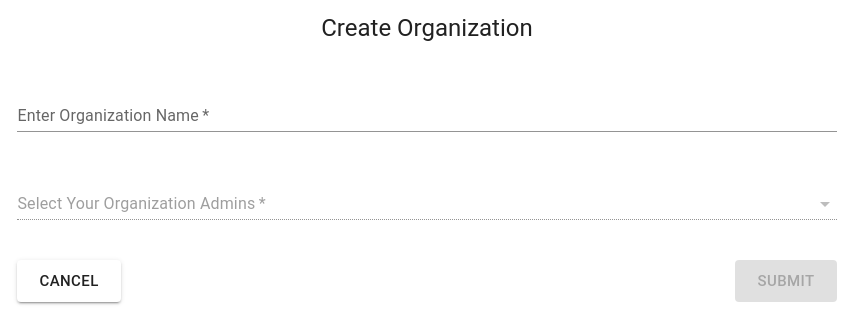
CreateOrganizationForm › Form validation › organization admins field › should be disabled if sso is disabled
Type "foo bar" into the field labelled "Enter Organization Name" at (427, 116), box [17, 100, 837, 132]
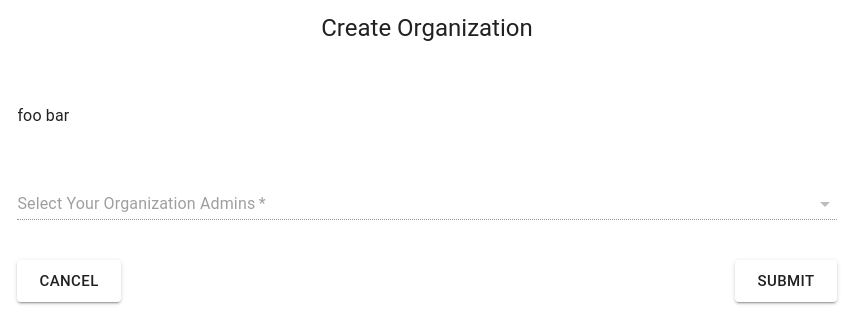
Expected: the dropdown labelled "Select Your Organization Admins" is disabled, [17, 188, 807, 219]
Now the button with aria-label "Submit Your Form" is enabled, box [735, 260, 837, 302]
